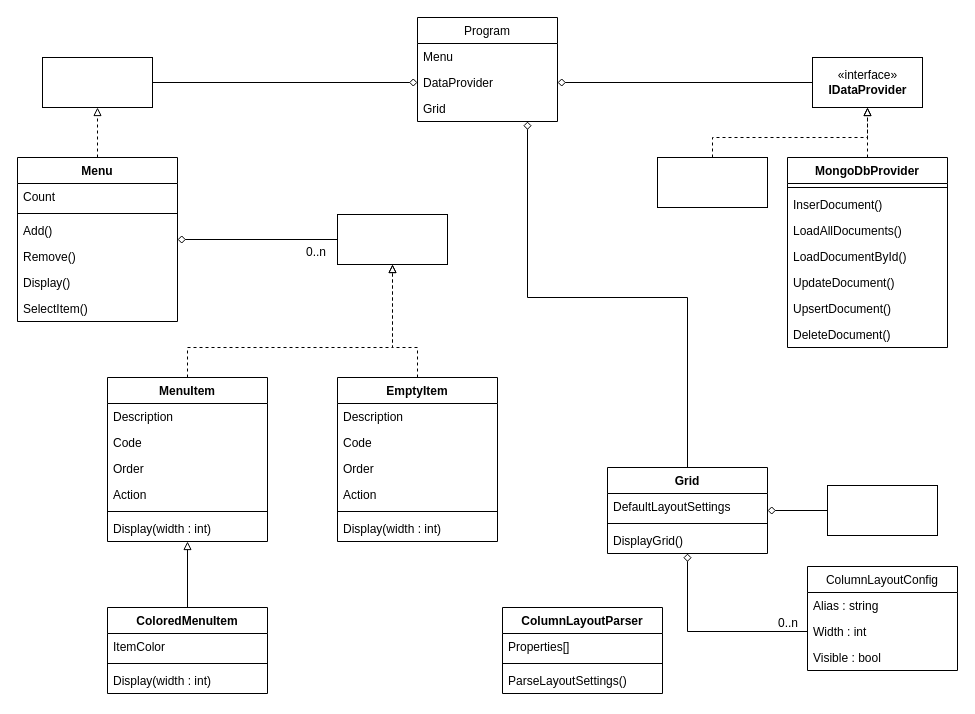
This 975x714 diagram has some shape labels left out. Here are the shapes that lost their labels. From the top down, the centre of each, then its label:
At point (97, 82): "«interface» IMenu".
At point (712, 182): "DummyProvider".
At point (392, 239): "«interface» IMenuItem".
At point (882, 510): "GridView".
